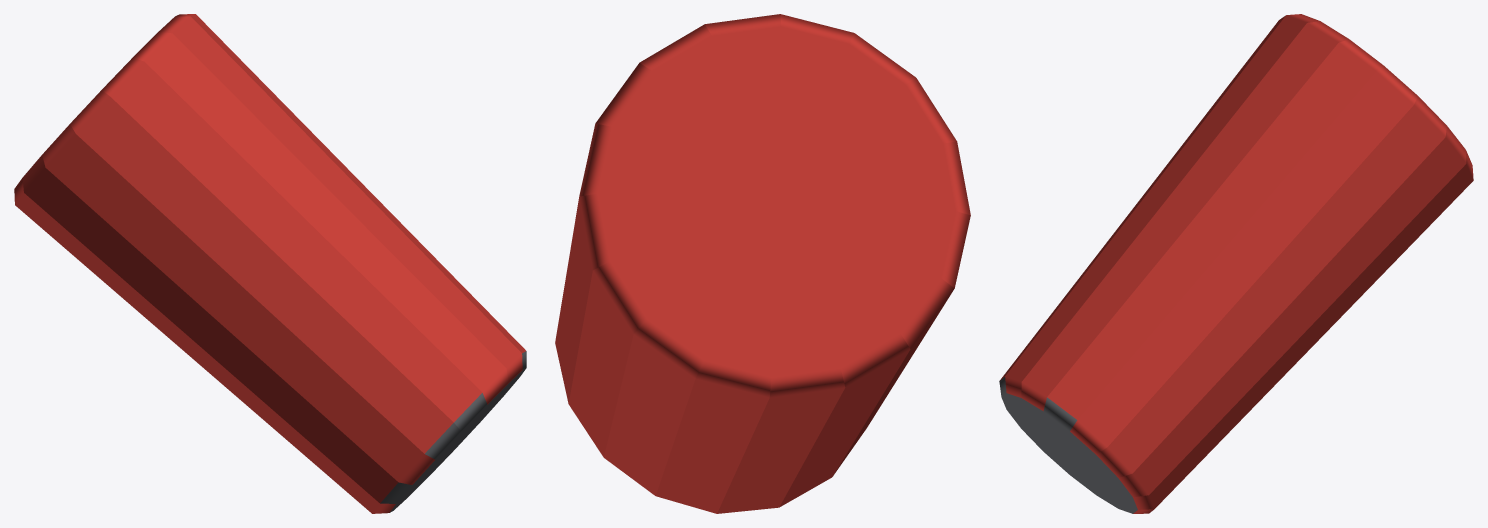
File: SM_SB_Armor_lowerarm_l.fbx
The picture shows the model from 3 angles, left to right: view 1: azimuth 30°, elevation 25°; view 2: azimuth 150°, elevation 25°; view 3: azimuth 270°, elevation 25°; orthographic projection. The views are drawn at different scales.
Parts seen in each view (by area): view 1: SM_SB_Armor_lowerarm_l; view 2: SM_SB_Armor_lowerarm_l; view 3: SM_SB_Armor_lowerarm_l.
Boxes of the visible parts, <box> form: SM_SB_Armor_lowerarm_l: <box>14,14,526,513</box>; SM_SB_Armor_lowerarm_l: <box>555,14,970,513</box>; SM_SB_Armor_lowerarm_l: <box>999,14,1473,513</box>.
Bounding box in the file's own units: 18.68 × 20.75 × 20.38.
